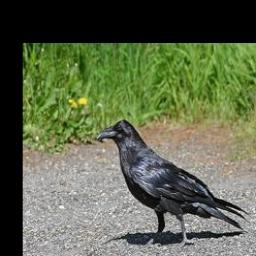Crow: (96, 118, 252, 251)
